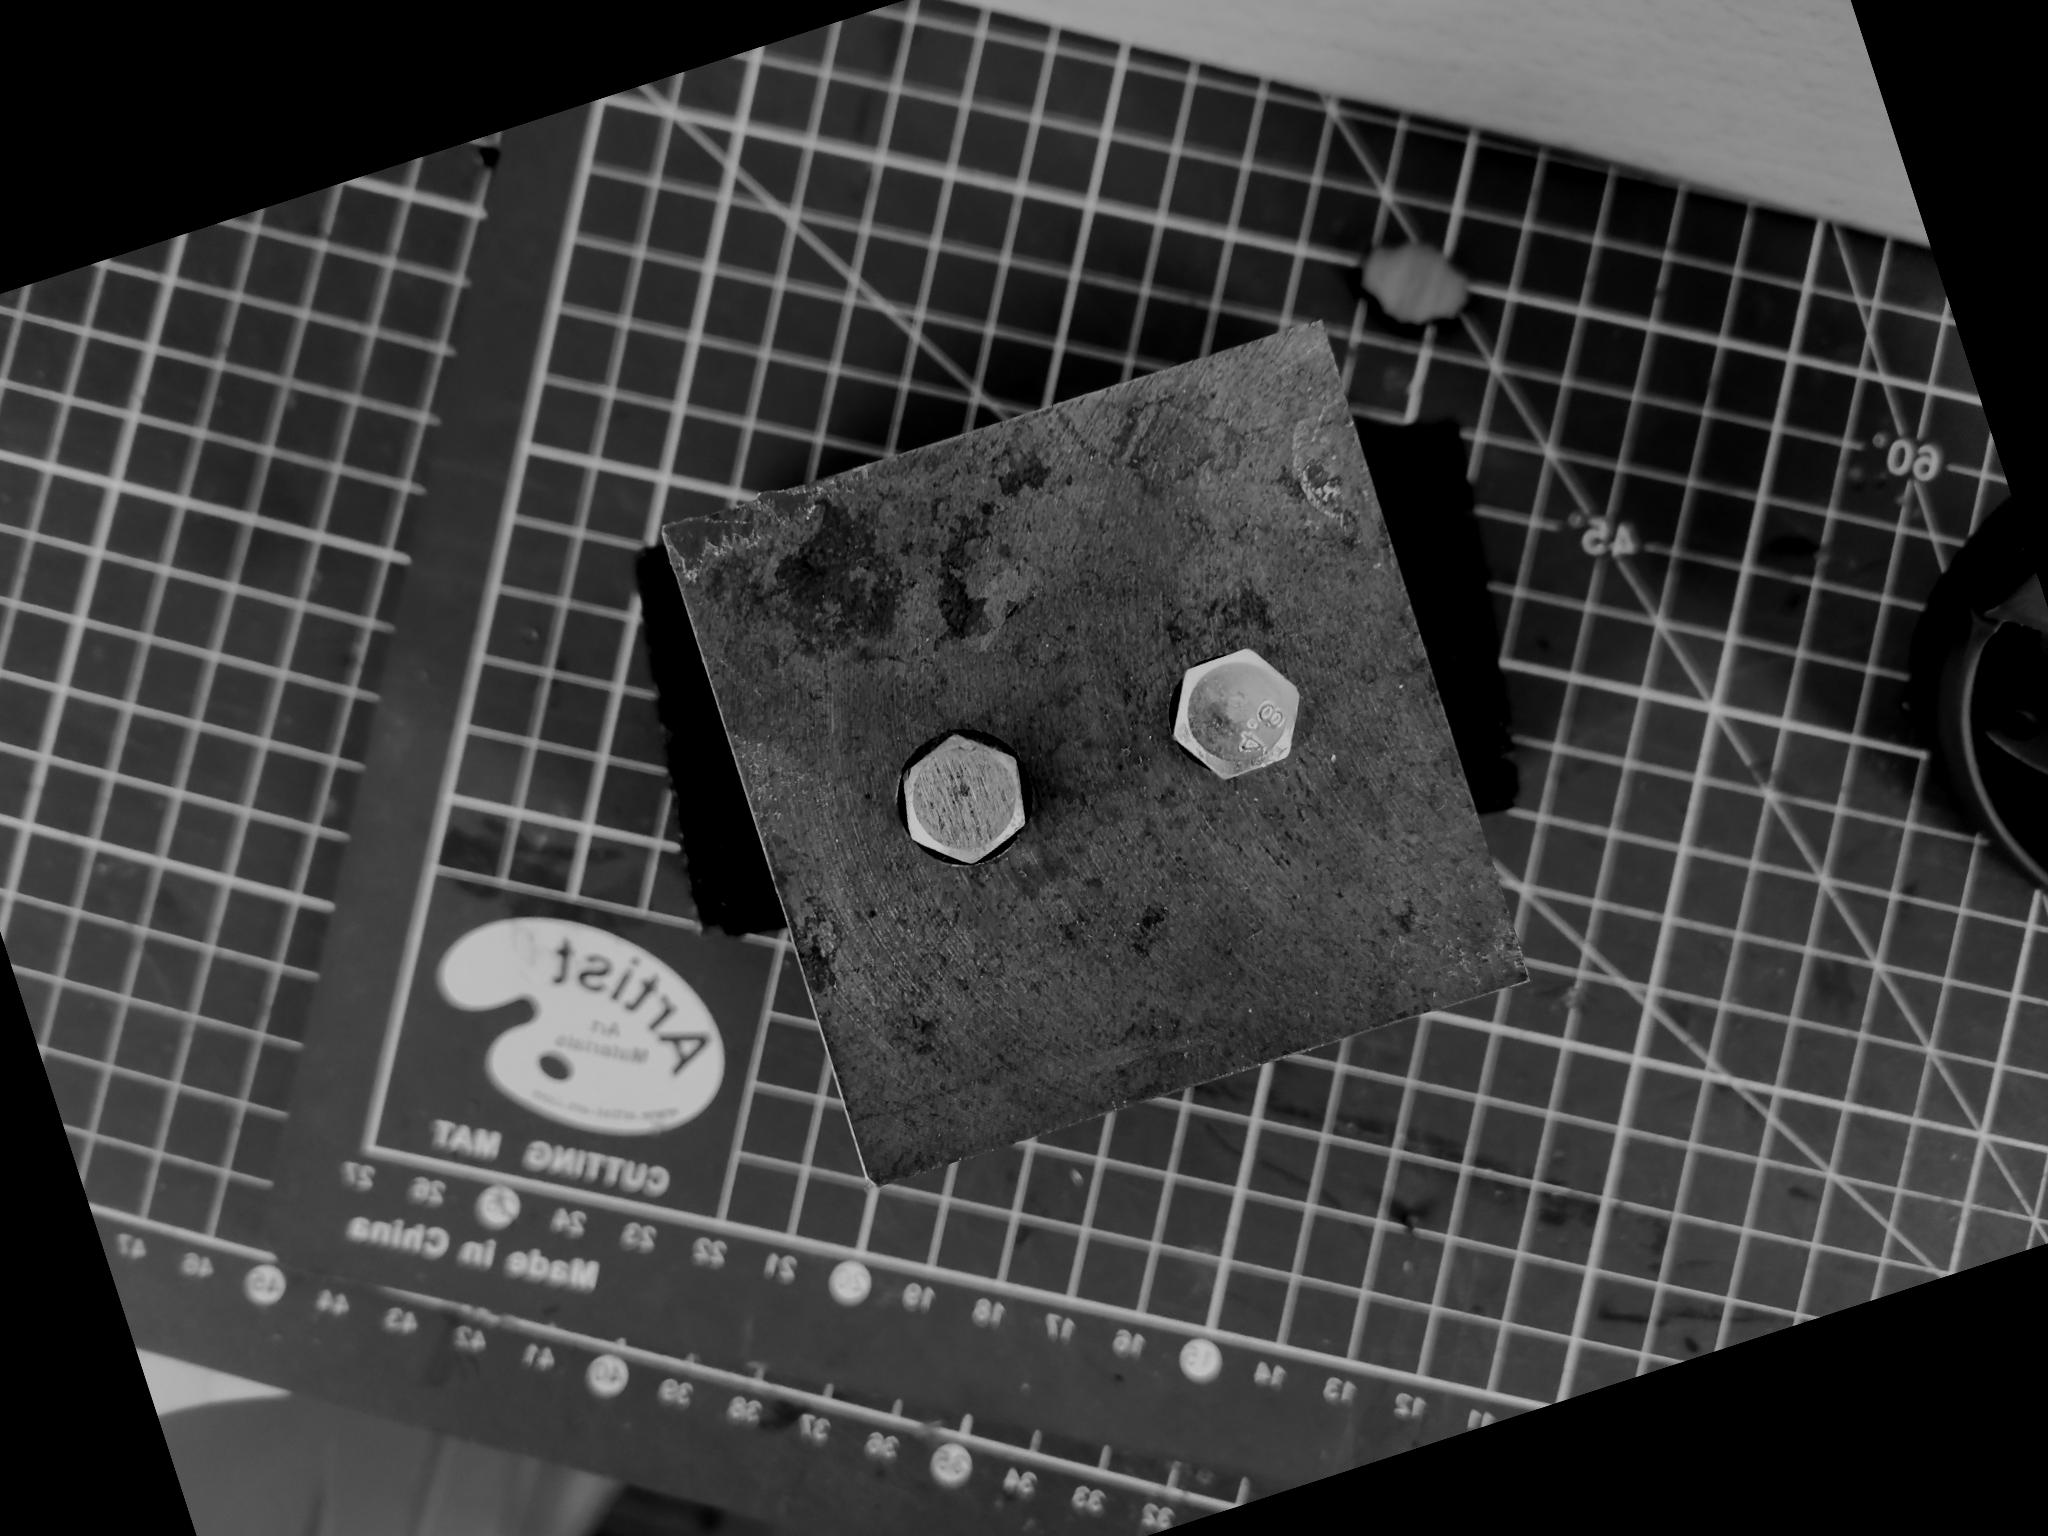screw: (872, 703, 1059, 894), (1145, 620, 1324, 800)
